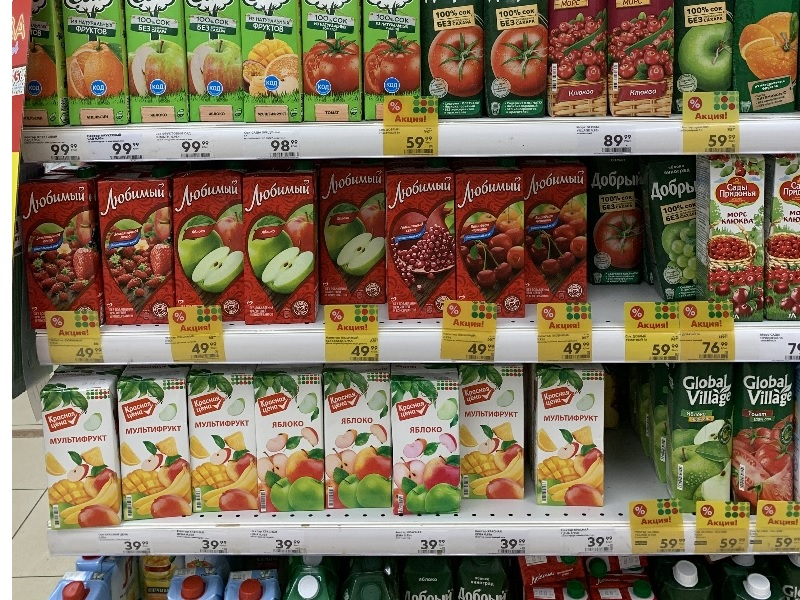juice: (19, 163, 111, 336), (236, 164, 330, 332), (92, 163, 183, 333), (35, 371, 128, 533), (169, 166, 256, 335), (374, 162, 463, 326), (661, 359, 747, 522), (530, 361, 616, 518), (317, 361, 403, 516), (386, 363, 470, 521), (454, 159, 532, 329), (118, 366, 201, 525), (317, 158, 401, 314), (250, 365, 334, 515), (189, 365, 267, 519)
